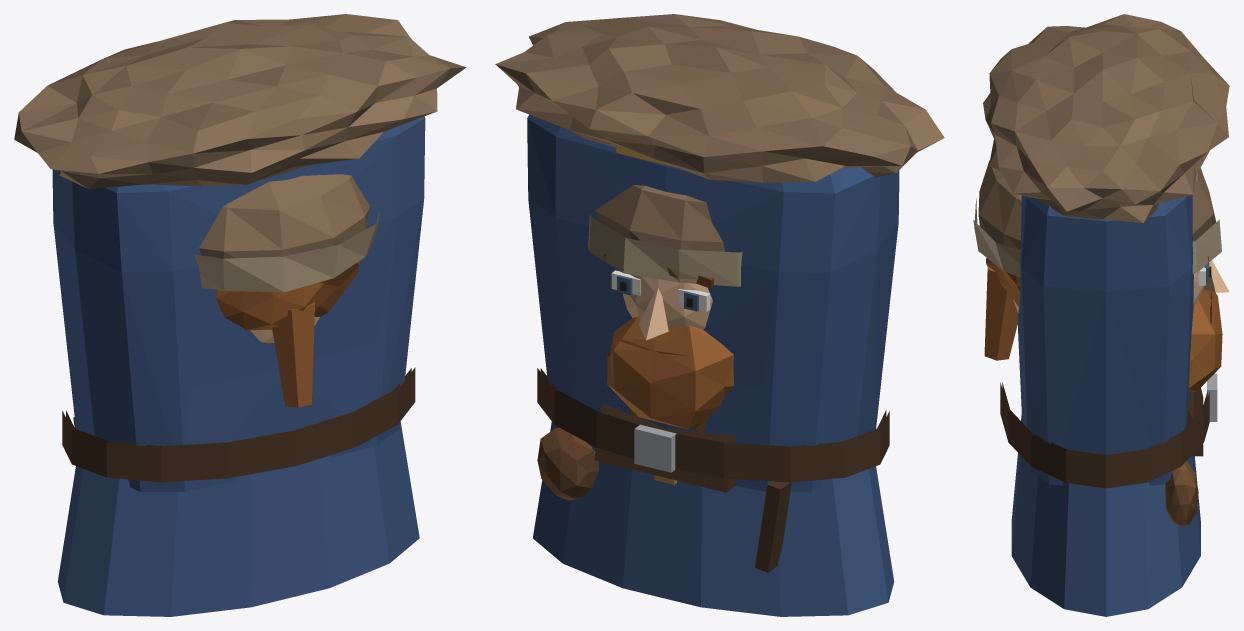
Rendered from Settler_Man_2.glb.
3 renders of one model, left to right at view 1: azimuth 30°, elevation 25°; view 2: azimuth 150°, elevation 25°; view 3: azimuth 270°, elevation 25°, orthographic. The views are drawn at different scales.
Parts seen in each view (by area): view 1: Body, Head; view 2: Body, Head, Leg; view 3: Body, Head, Leg.
Part boxes in pixels (<box>): Body: <box>14,14,466,616</box>; Head: <box>194,174,379,407</box>; Body: <box>495,14,944,616</box>; Head: <box>588,185,742,484</box>; Leg: <box>594,403,736,492</box>; Body: <box>983,14,1229,616</box>; Head: <box>973,160,1229,398</box>; Leg: <box>1187,388,1203,456</box>.
Size of the model in its own units: 2.49 by 2.93 by 1.45.
1 material, 1 textured.
